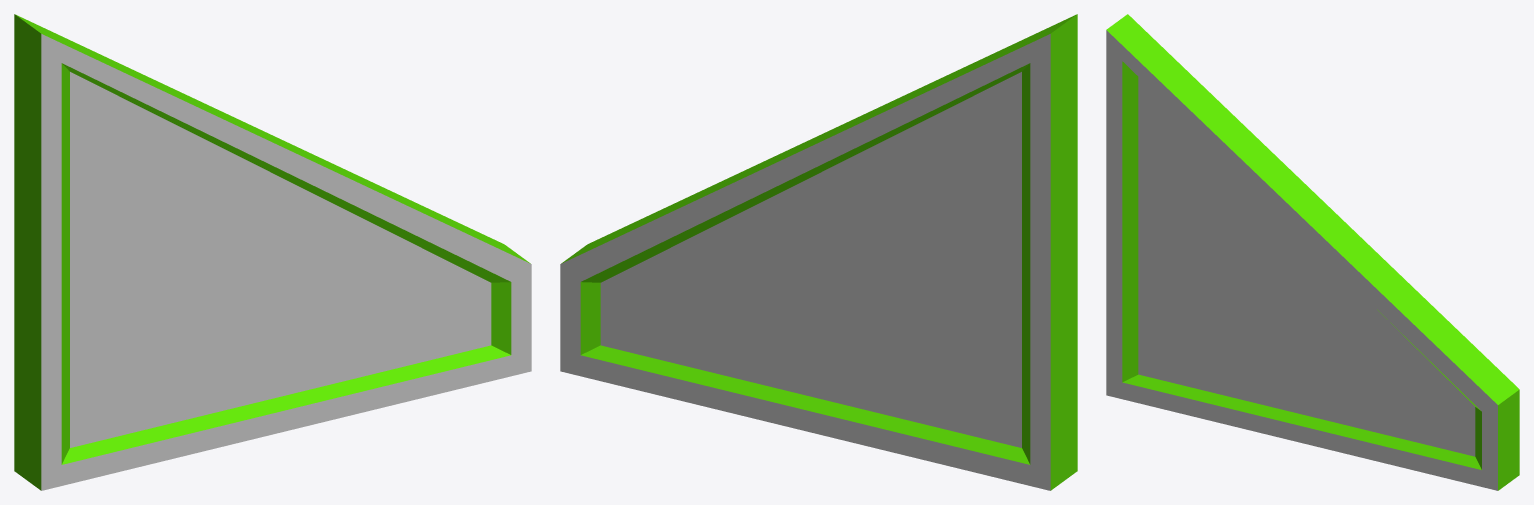
Rendered from üstk_lv5.fbx.
3 views of the same model, side by side, from view 1: azimuth 30°, elevation 25°; view 2: azimuth 150°, elevation 25°; view 3: azimuth 330°, elevation 25° (orthographic). The views are drawn at different scales.
Parts seen in each view (by area): view 1: üstk_lv5; view 2: üstk_lv5; view 3: üstk_lv5.
Part boxes in pixels (bbox=[...]): üstk_lv5: bbox=[14, 14, 531, 490]; üstk_lv5: bbox=[560, 14, 1077, 490]; üstk_lv5: bbox=[1106, 14, 1519, 490].
Size of the model in its own units: 82.82 by 73.82 by 7.92.
